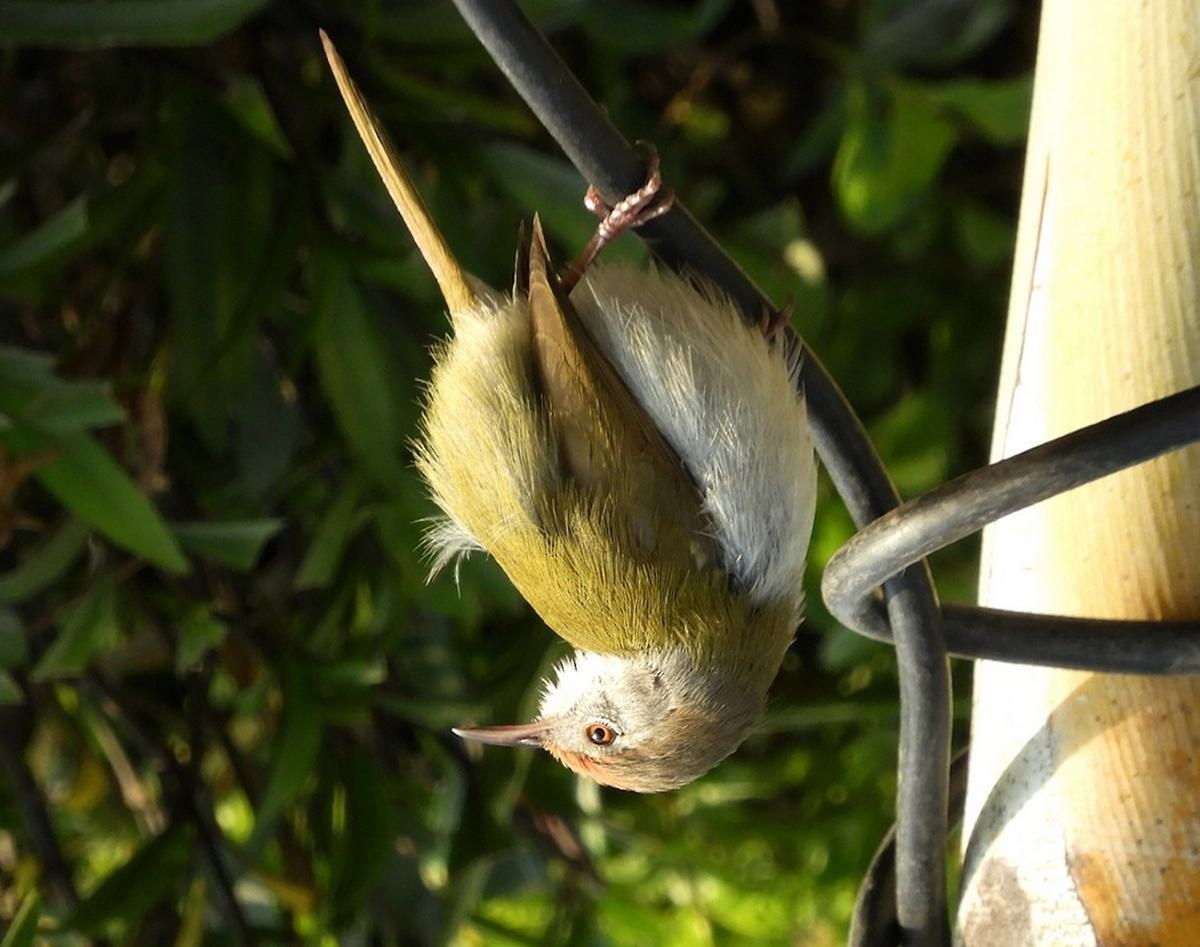tailorbird: (285, 98, 834, 789)
